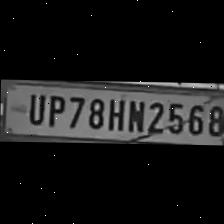2: (144, 98, 164, 134)
5: (164, 100, 184, 134)
6: (184, 101, 204, 136)
7: (64, 93, 84, 128)
8: (84, 94, 106, 129), (204, 102, 222, 136)
H: (104, 95, 125, 131)
N: (124, 96, 144, 132)
P: (43, 92, 65, 126)
U: (23, 90, 45, 124)
